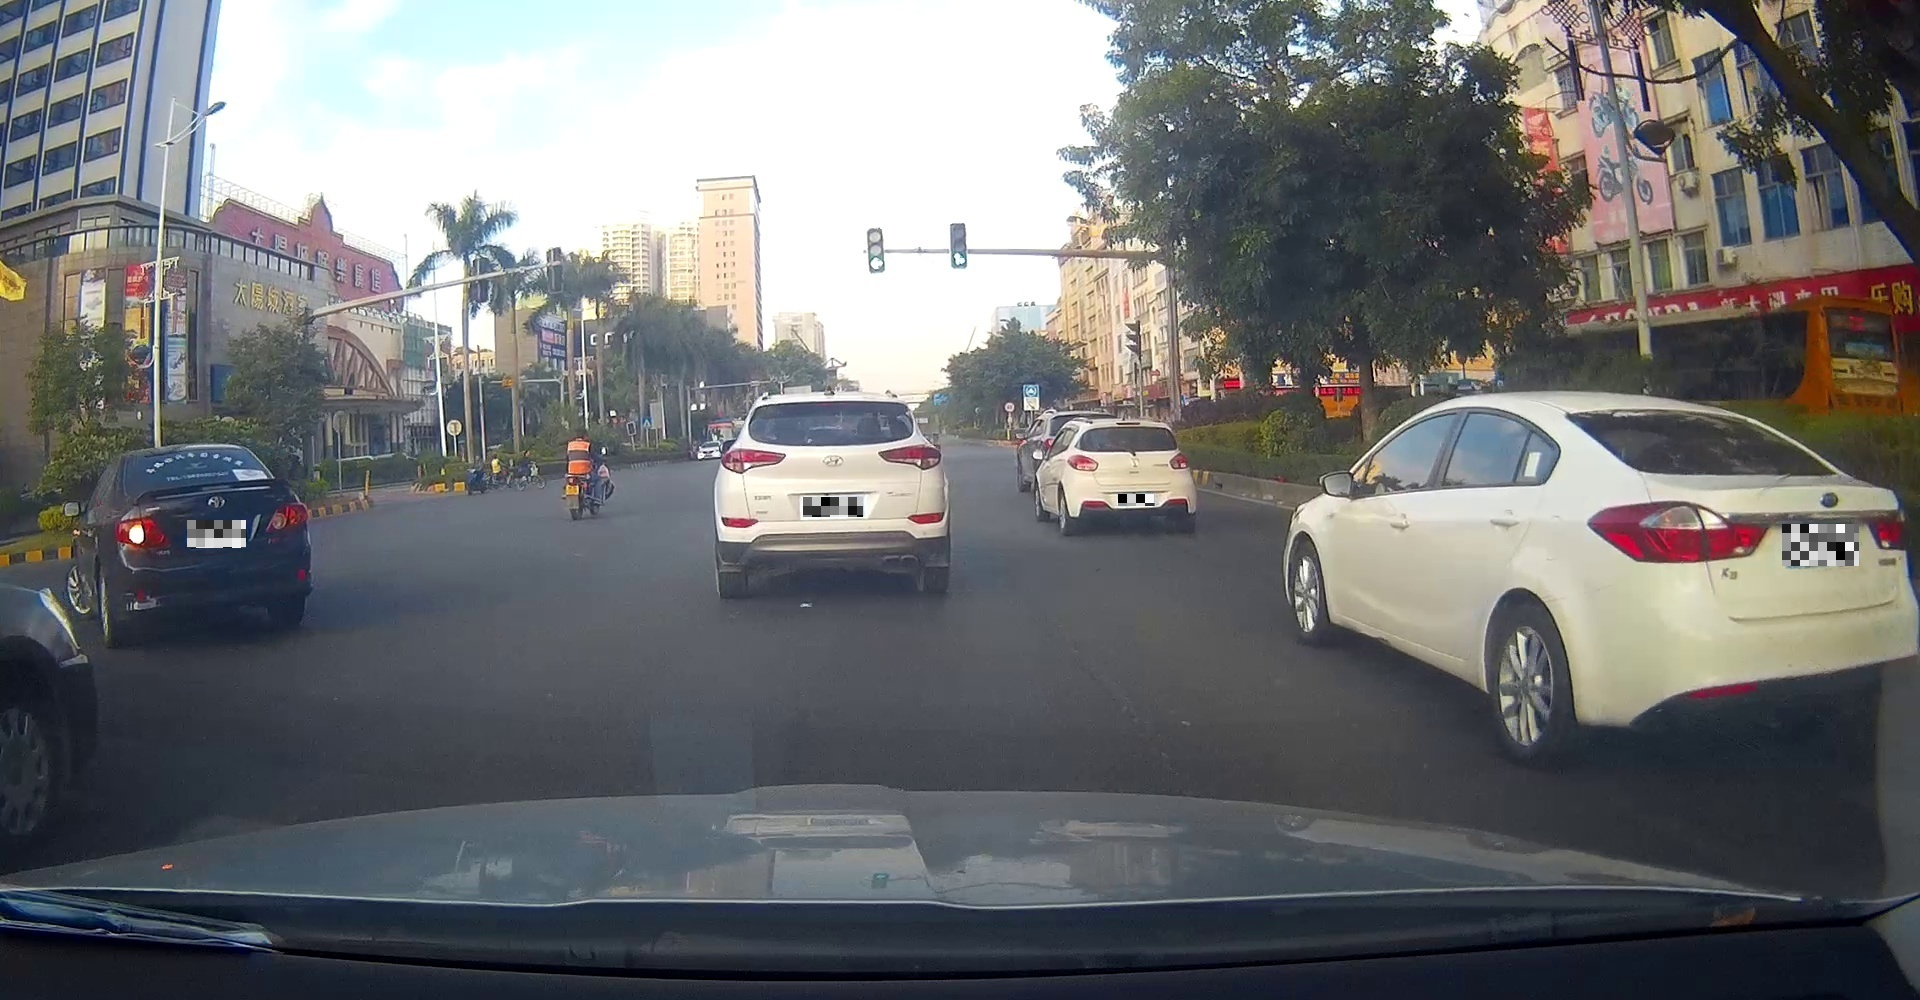L_light: (1585, 501, 1771, 565), (112, 516, 171, 552), (720, 445, 786, 475), (1068, 454, 1098, 472)
R_light: (877, 444, 942, 472), (1867, 509, 1911, 549), (264, 503, 309, 536), (1168, 452, 1191, 470)
T_light: (1731, 463, 1780, 475), (809, 402, 850, 411), (174, 451, 208, 458), (1117, 426, 1139, 431)
day-left: (110, 443, 312, 646)
day-no: (1557, 400, 1920, 772), (717, 396, 946, 598), (1065, 423, 1197, 534)
plate_1: (187, 520, 246, 548)
plate_2: (803, 497, 863, 516)
plate_3: (1117, 494, 1156, 506)
plate_4: (1782, 524, 1859, 566)
